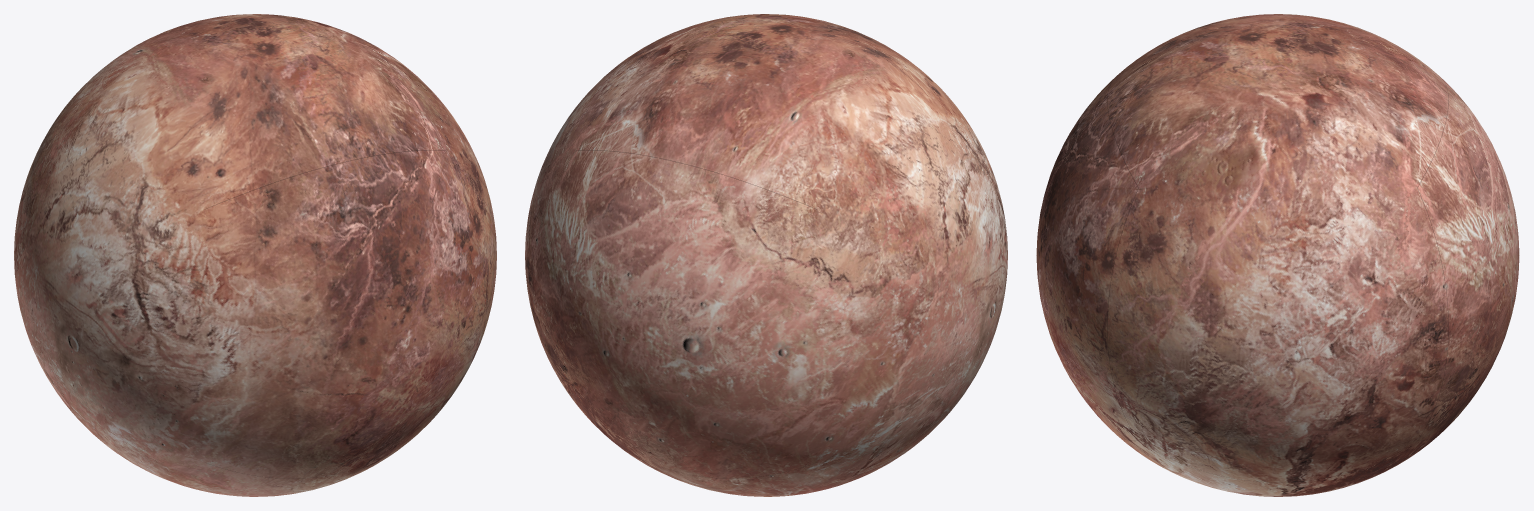
The model's file is planet.gltf.
3 renders of one model, left to right at view 1: azimuth 30°, elevation 25°; view 2: azimuth 150°, elevation 25°; view 3: azimuth 270°, elevation 25°, orthographic.
Parts seen in each view (by area): view 1: Phoenix_LOD0__0; view 2: Phoenix_LOD0__0; view 3: Phoenix_LOD0__0.
Boxes of the visible parts, bbox=[...] form: Phoenix_LOD0__0: bbox=[14, 14, 496, 496]; Phoenix_LOD0__0: bbox=[525, 14, 1007, 496]; Phoenix_LOD0__0: bbox=[1036, 14, 1519, 496].
Bounding box in the file's own units: 3.41 × 3.41 × 3.41.
Materials: 1 (1 with a texture image).
